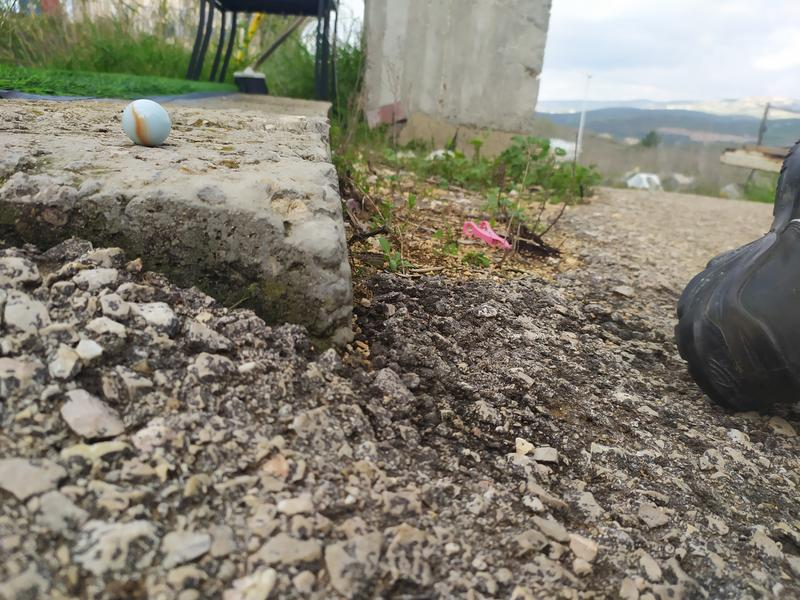Warning: (118, 98, 173, 149)
